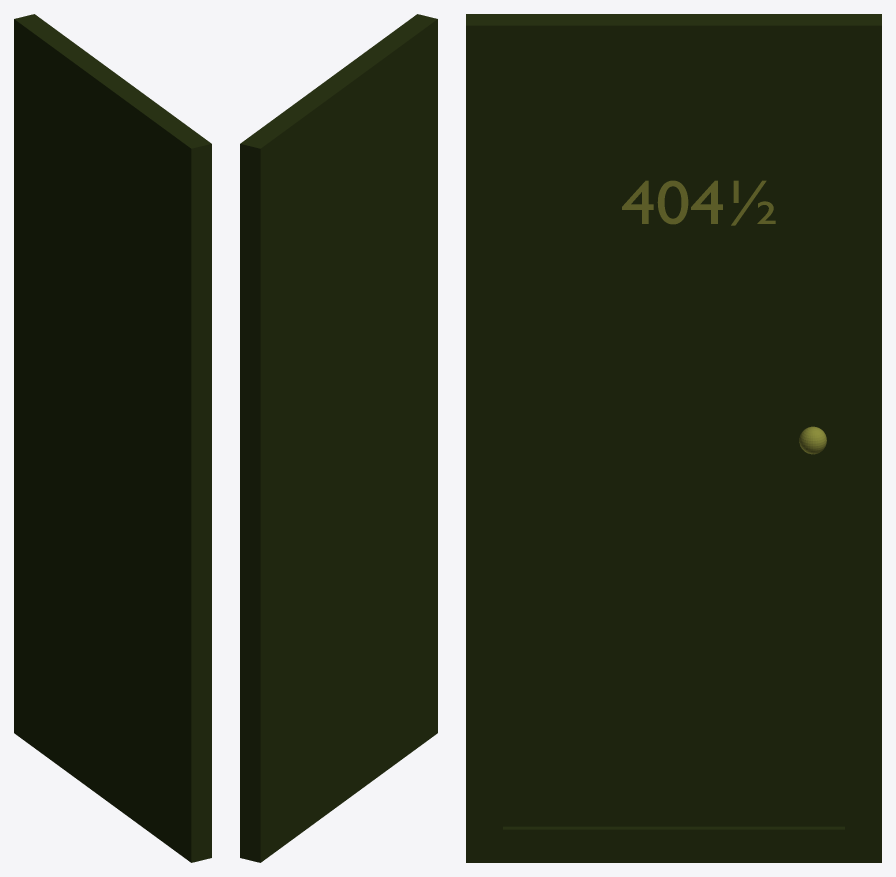
File: door.glb
3 views of the same model, side by side, from view 1: azimuth 30°, elevation 25°; view 2: azimuth 150°, elevation 25°; view 3: azimuth 270°, elevation 25° (orthographic). The views are drawn at different scales.
Visible parts, largest first — view 1: Text; view 2: Text; view 3: Text.
Part boxes in pixels (x1,y1,x2,y2): Text: (14,14,211,862); Text: (240,14,437,862); Text: (466,14,881,862).
Bounding box in the file's own units: 0.11 × 2 × 0.9.
